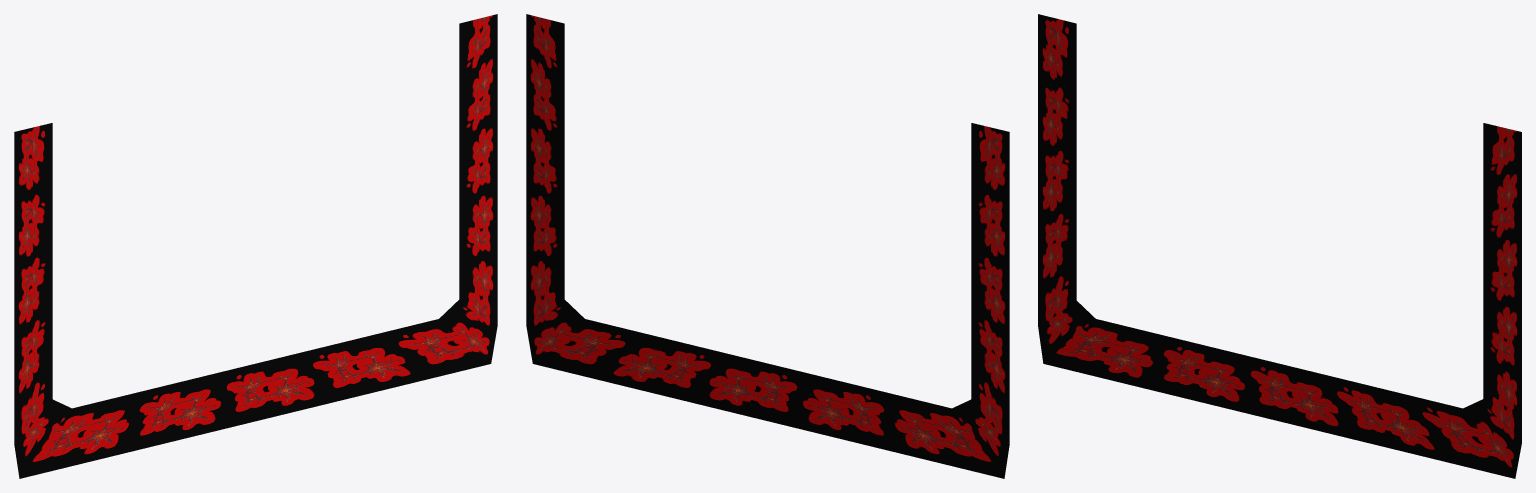
The model's file is sanzhang_plane002.FBX.
3 renders of one model, left to right at view 1: azimuth 30°, elevation 25°; view 2: azimuth 150°, elevation 25°; view 3: azimuth 330°, elevation 25°, orthographic.
Visible parts, largest first — view 1: sanzhang_plane002; view 2: sanzhang_plane002; view 3: sanzhang_plane002.
Part boxes in pixels (x1,y1,x2,y2): sanzhang_plane002: (14,14,497,478); sanzhang_plane002: (526,14,1009,478); sanzhang_plane002: (1038,14,1521,478).
Size of the model in its own units: 24.97 by 17.19 by 9.49e-06.
